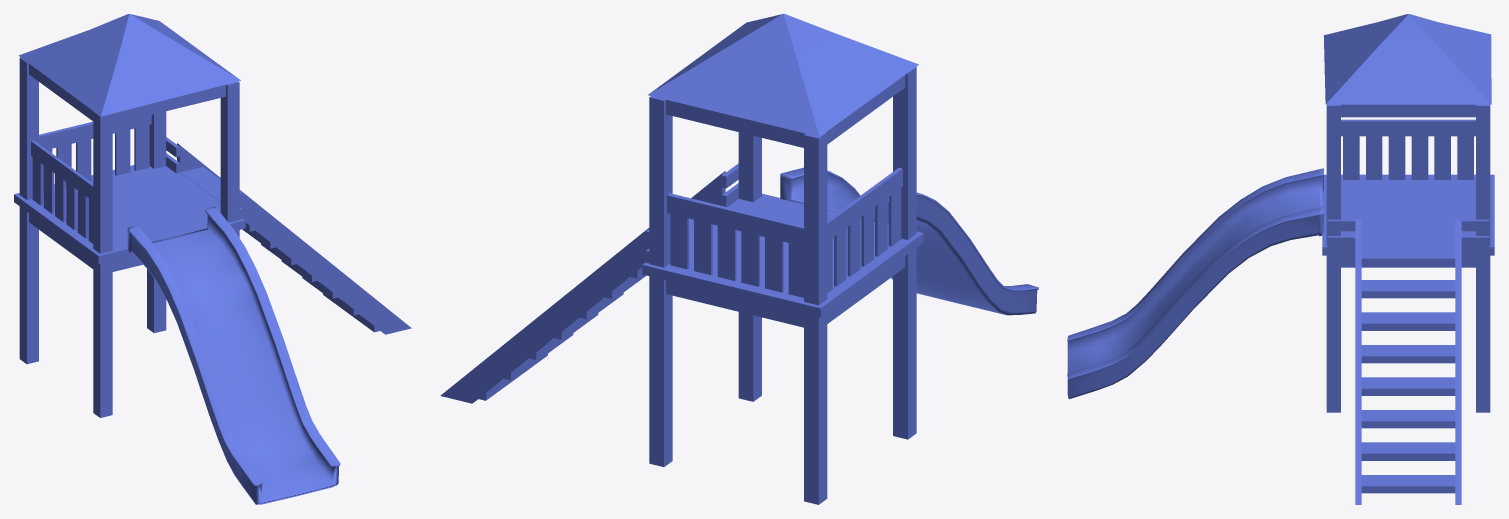
File: Slide.fbx
3 renders of one model, left to right at view 1: azimuth 30°, elevation 25°; view 2: azimuth 150°, elevation 25°; view 3: azimuth 270°, elevation 25°, orthographic. The views are drawn at different scales.
Visible parts, largest first — view 1: slope, pillars, roof, platform, walls, stairs1, roof_bot, stairs2, platform_bot, details; view 2: pillars, roof, walls, slope, platform, stairs1, roof_bot, platform_bot, stairs2, details; view 3: slope, stairs2, roof, platform, pillars, walls, stairs1, roof_bot, details, platform_bot.
Boxes of the visible parts, x1,y1,x2,y2 form: slope: (127,206,340,504); pillars: (19,57,239,417); roof: (18,14,240,116); platform: (14,165,245,263); walls: (31,115,151,243); stairs1: (177,143,411,334); roof_bot: (29,64,225,123); stairs2: (180,167,380,332); platform_bot: (29,213,142,271); details: (166,137,242,218); pillars: (649,67,916,504); roof: (648,14,918,136); walls: (667,167,902,297); slope: (780,167,1038,315); platform: (642,193,923,317); stairs1: (440,171,725,403); roof_bot: (666,75,905,147); platform_bot: (666,256,905,327); stairs2: (478,218,693,400); details: (645,163,738,263); slope: (1067,168,1323,399); stairs2: (1361,247,1455,493); roof: (1323,14,1491,104); platform: (1322,174,1494,255); pillars: (1326,104,1490,412); walls: (1341,119,1475,179); stairs1: (1355,219,1461,504); roof_bot: (1341,104,1475,117); details: (1327,219,1489,247); platform_bot: (1341,255,1475,267).
Bounding box in the file's own units: 353 × 369 × 391.
